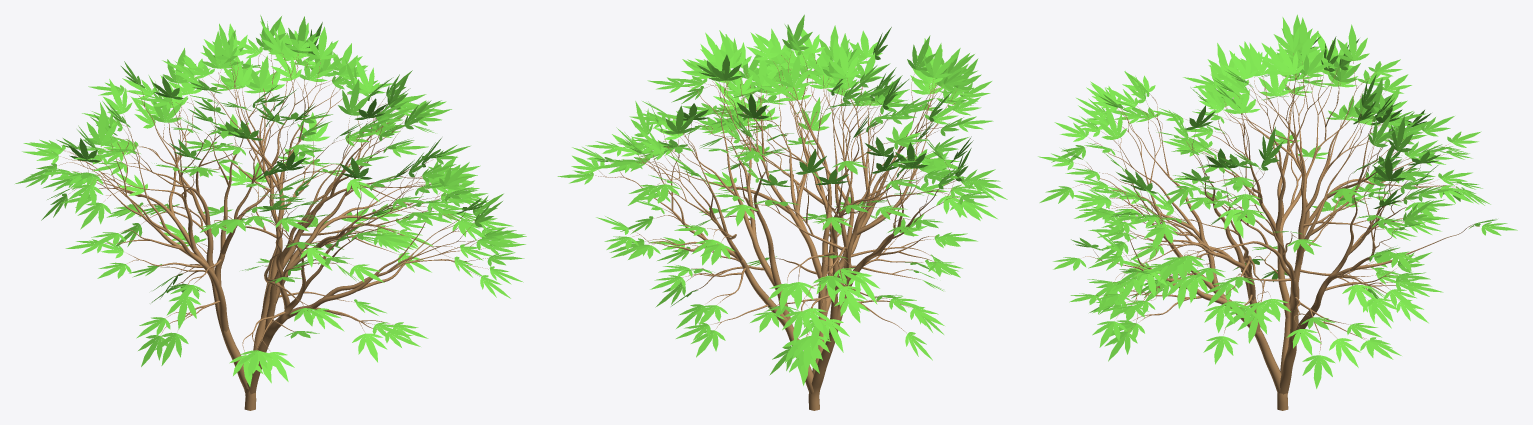
File: treeNew03.glb
3 views of the same model, side by side, from view 1: azimuth 30°, elevation 25°; view 2: azimuth 150°, elevation 25°; view 3: azimuth 270°, elevation 25° (orthographic).
Visible parts, largest first — view 1: leaves, tree; view 2: leaves, tree; view 3: leaves, tree.
Boxes of the visible parts, box(x1,y1,x2,y2) form: leaves: box(15, 15, 526, 386); tree: box(59, 48, 488, 410); leaves: box(557, 14, 1007, 385); tree: box(595, 50, 964, 410); leaves: box(1038, 14, 1517, 388); tree: box(1073, 53, 1479, 410).
Size of the model in its own units: 11.45 by 9.51 by 11.87.
